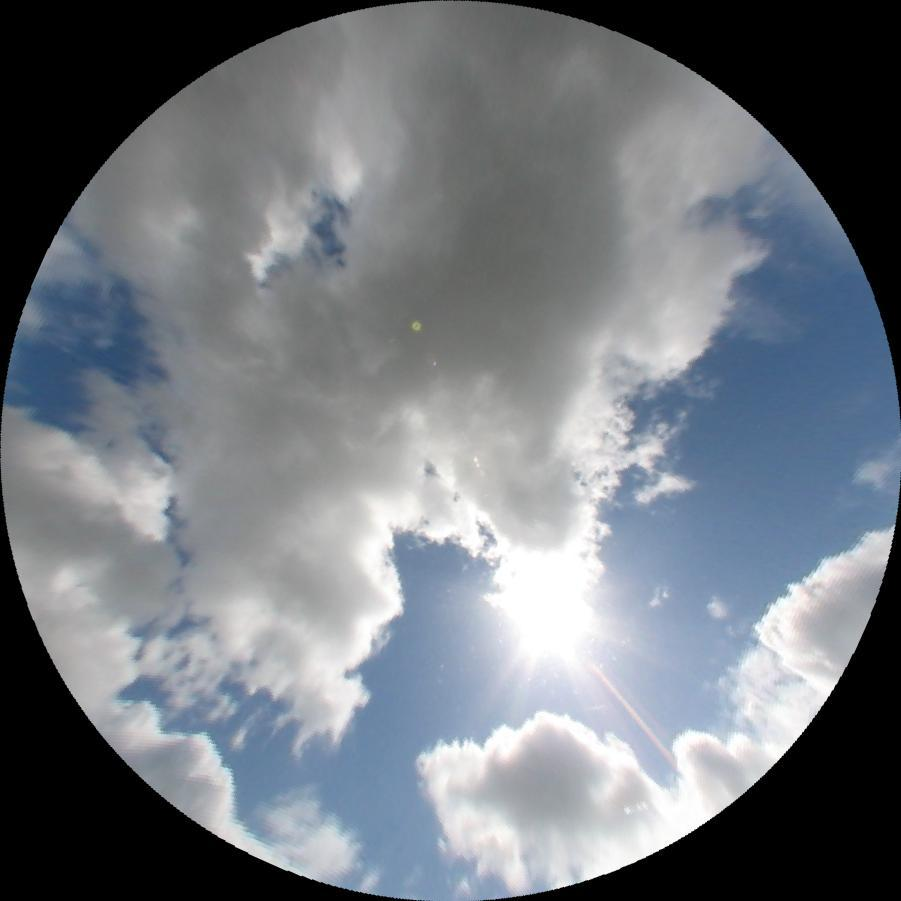contrail young: (573, 705, 605, 712)
parasite: (588, 662, 680, 767)
sun: (483, 545, 597, 655)
